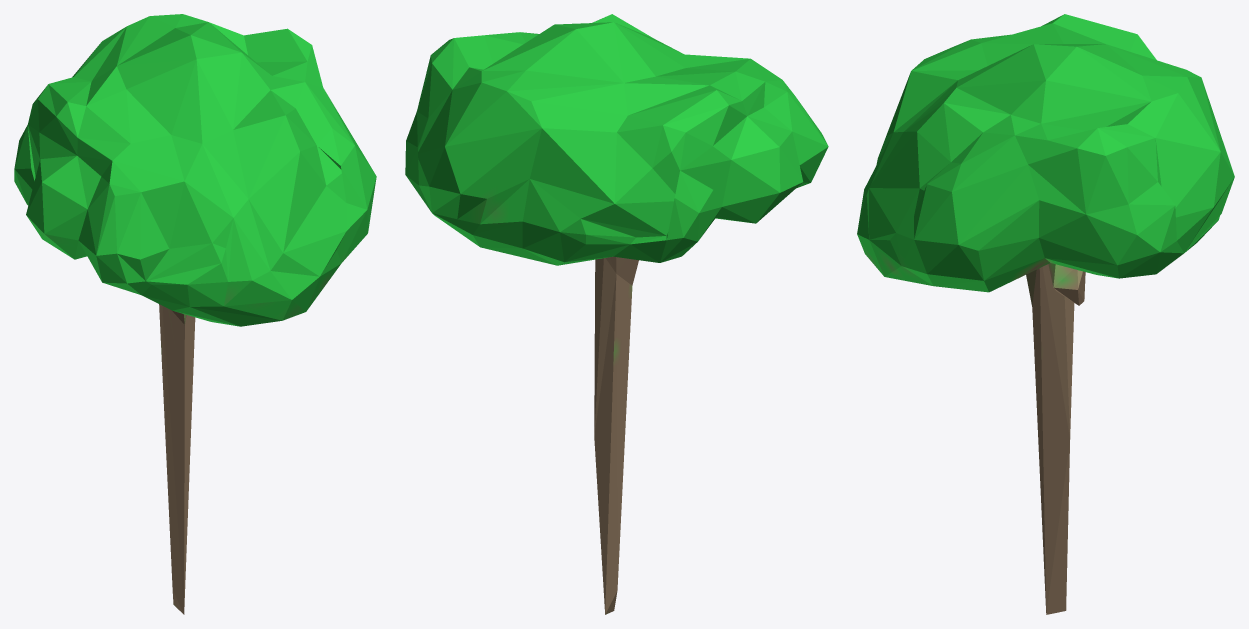
Rendered from Kiwi.fbx.
The picture shows the model from 3 angles, left to right: view 1: azimuth 30°, elevation 25°; view 2: azimuth 150°, elevation 25°; view 3: azimuth 270°, elevation 25°; orthographic projection. The views are drawn at different scales.
Visible parts, largest first — view 1: Kiwi; view 2: Kiwi; view 3: Kiwi.
Part boxes in pixels (<box>): Kiwi: <box>14,14,376,614</box>; Kiwi: <box>405,14,828,614</box>; Kiwi: <box>857,14,1234,614</box>.
Size of the model in its own units: 384 by 651 by 385.
1 material, 1 textured.
